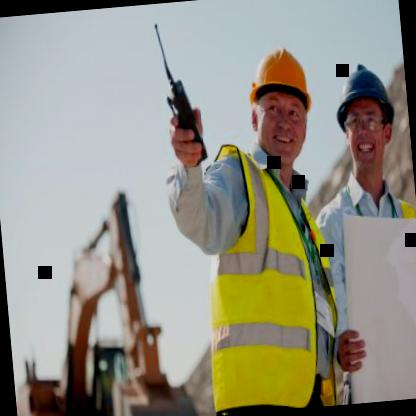helmet: (236, 30, 325, 181), (326, 42, 408, 194)
